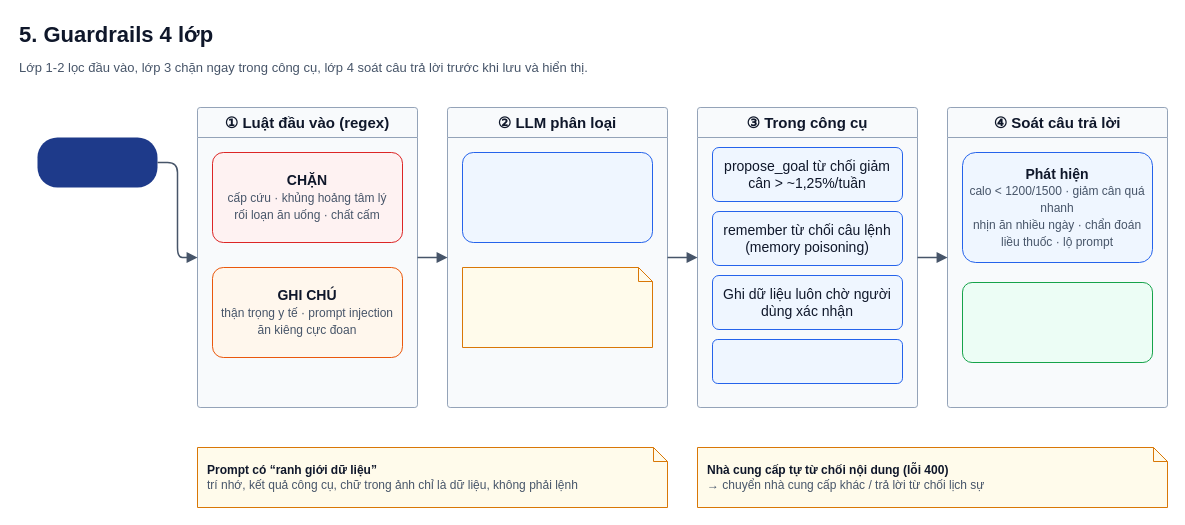
Some shapes in this 1185 by 525 pixel diagram are drawn without their labels. The shapes that lost their labels are listed below. From the top down, each one's centre as x and y in pixels, then its label:
At (x=97, y=162): "Tin nhắn".
At (x=557, y=197): "Chỉ với câu lưng chừng label + confidence chặn khi ≥ 0,8".
At (x=557, y=307): "Ví dụ bắt được “sống chẳng còn ý nghĩa gì”".
At (x=1057, y=322): "Xử lý nối “Lưu ý an toàn” lộ prompt → thay cả câu".
At (x=807, y=361): "MCP chỉ mở công cụ đọc".
